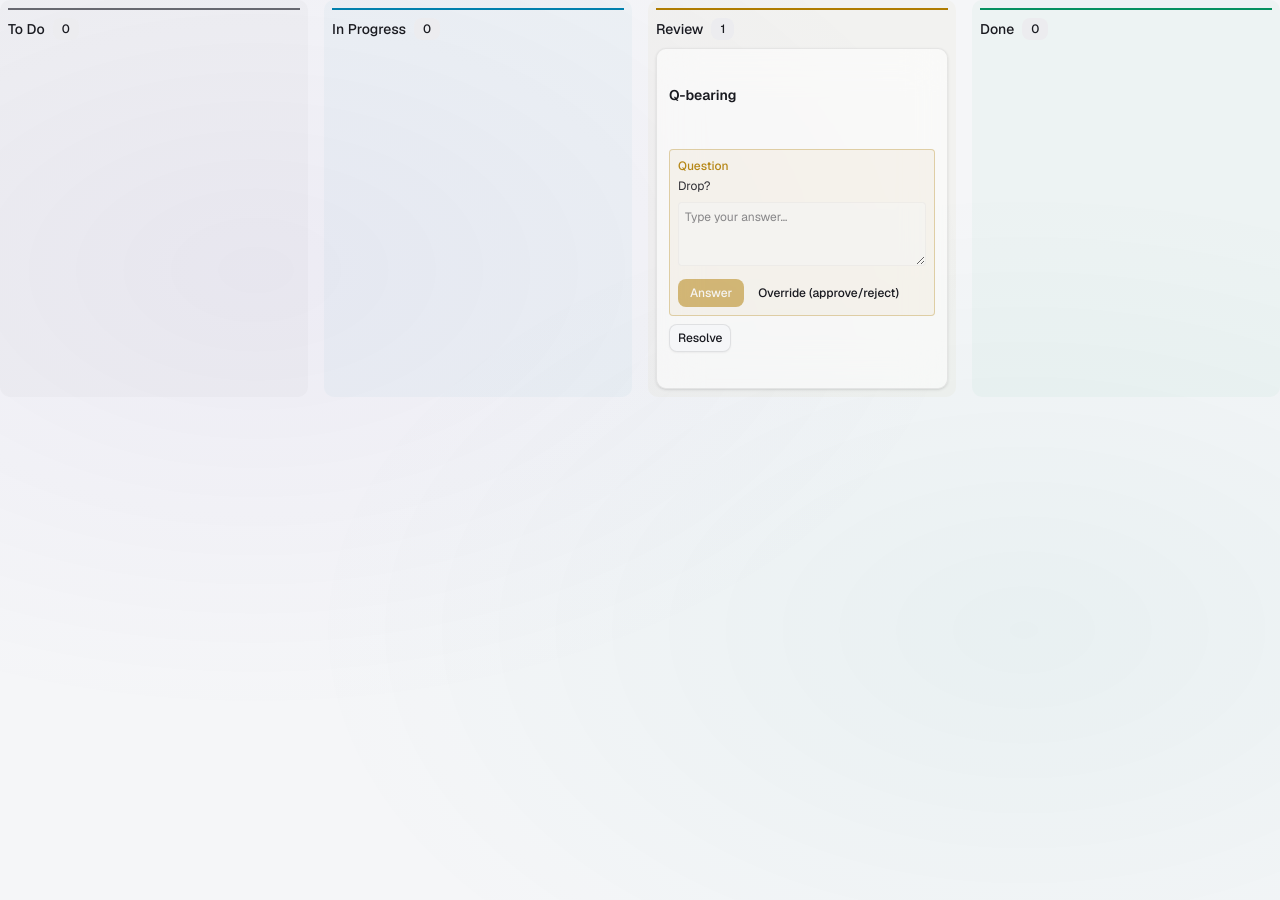
it: TaskBoard › reveals override approve/reject when the operator toggles it
Click the button with test id "override-toggle" at x=829, y=293, box [750,279,907,307]
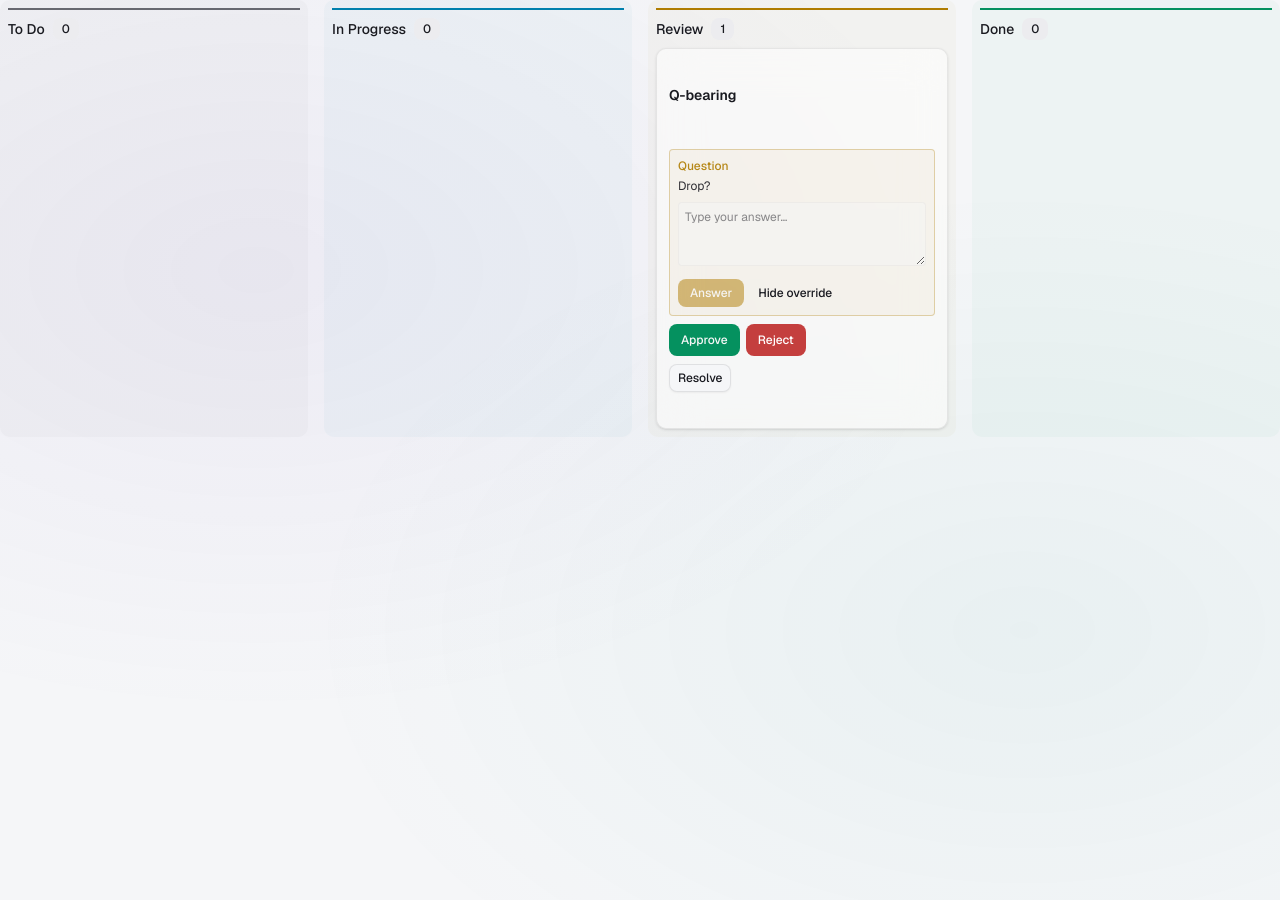
Expected: the element with test id "review-actions" is shown, [669,324,806,356]
